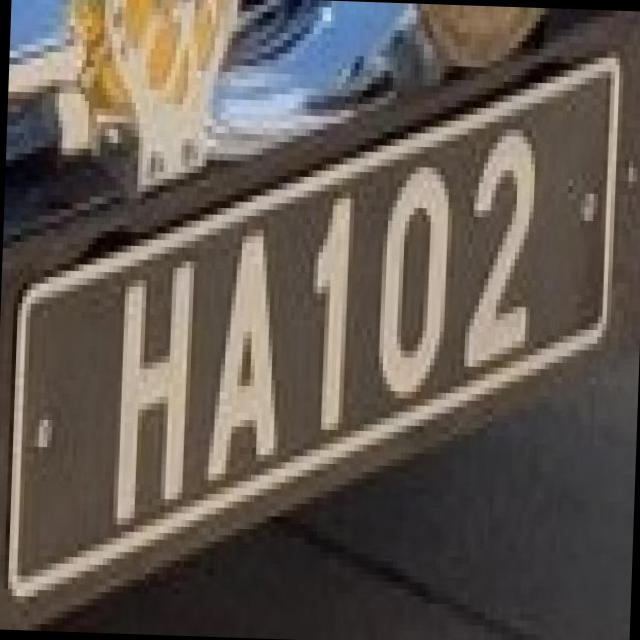0: (374, 163, 462, 400)
1: (299, 182, 366, 434)
2: (456, 129, 546, 373)
A: (196, 228, 286, 482)
H: (109, 252, 202, 520)
